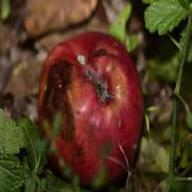apple: (38, 34, 142, 186)
